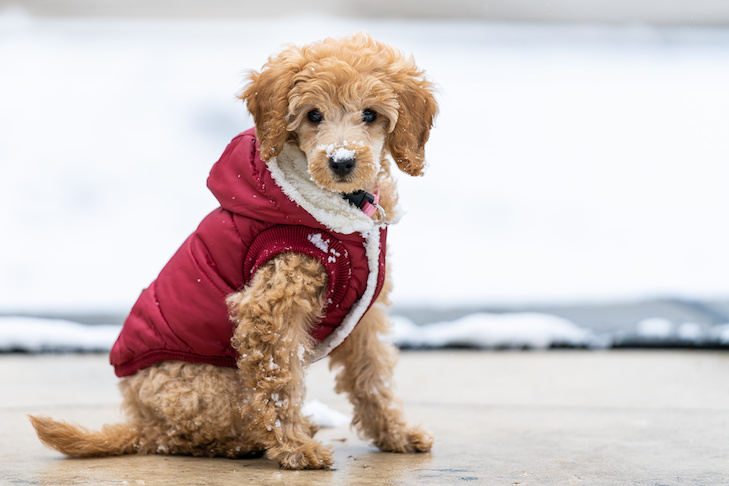Dog: (23, 29, 439, 468)
